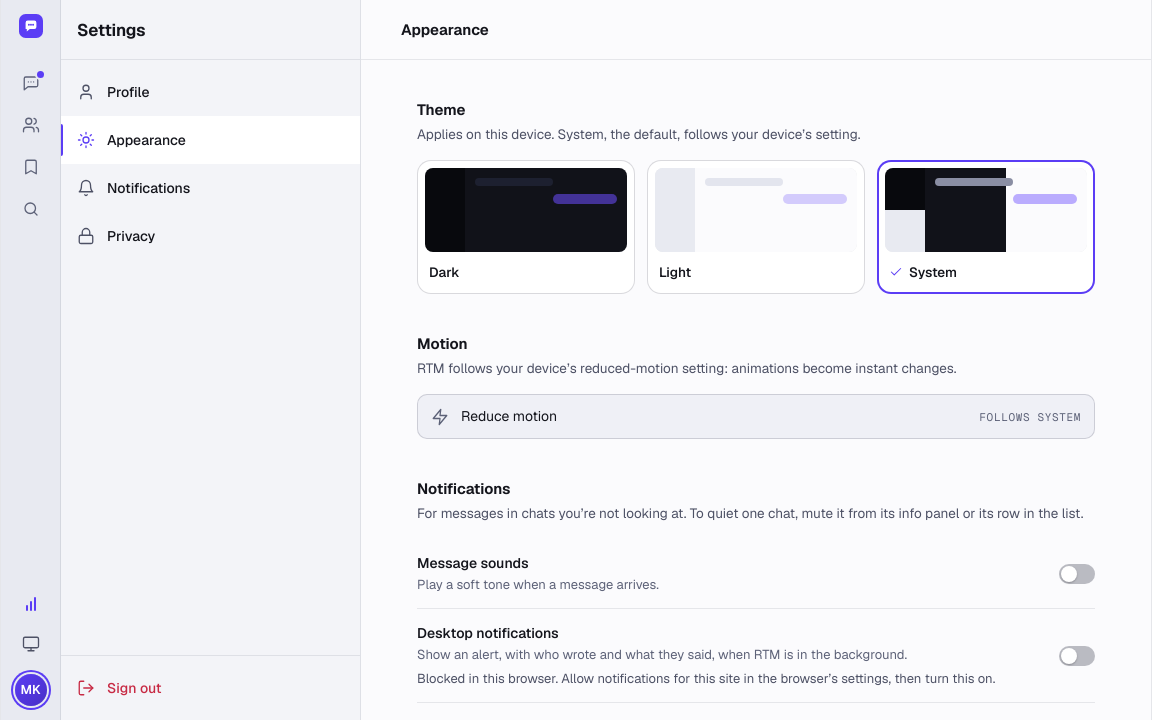
AppShell on every screen size › switches the list to Saved from the navigation, from Settings too
Click the button named "Saved messages".
click(30, 166)  # box 12,148 -> 48,184
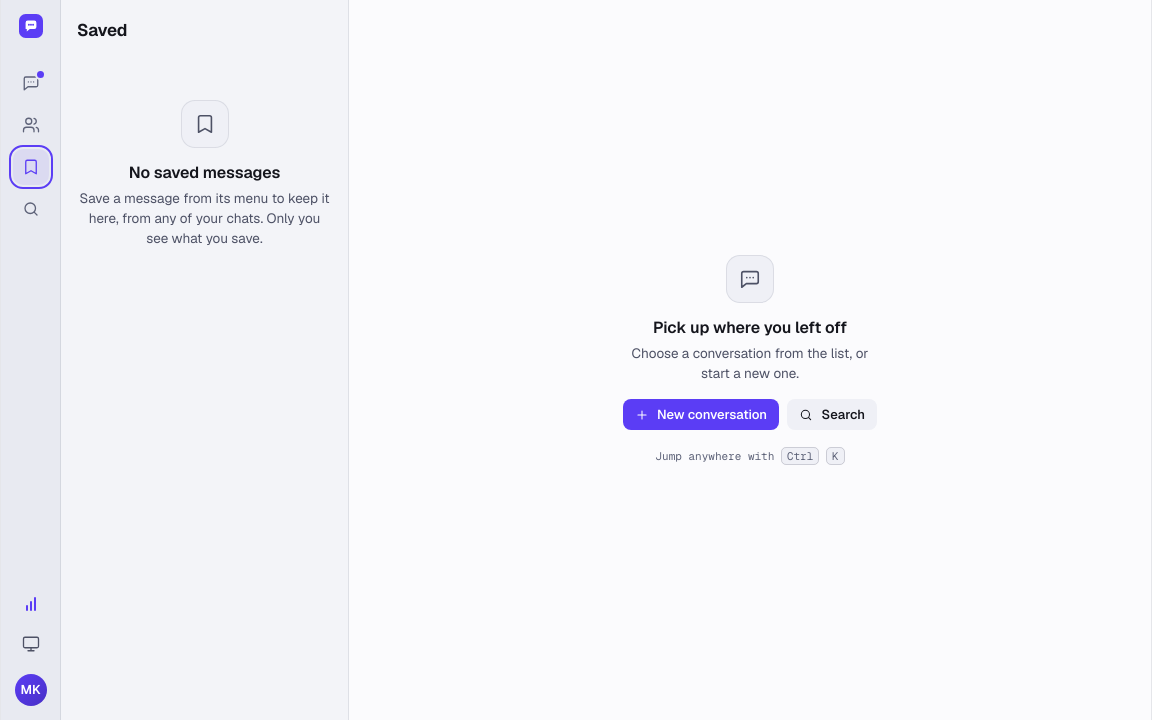
Result: the heading "Saved" is shown at 77,18 -> 127,42
Result: the element "saved messages" is shown at 61,0 -> 349,719
Result: the heading "No saved messages" is shown at 129,162 -> 280,184
